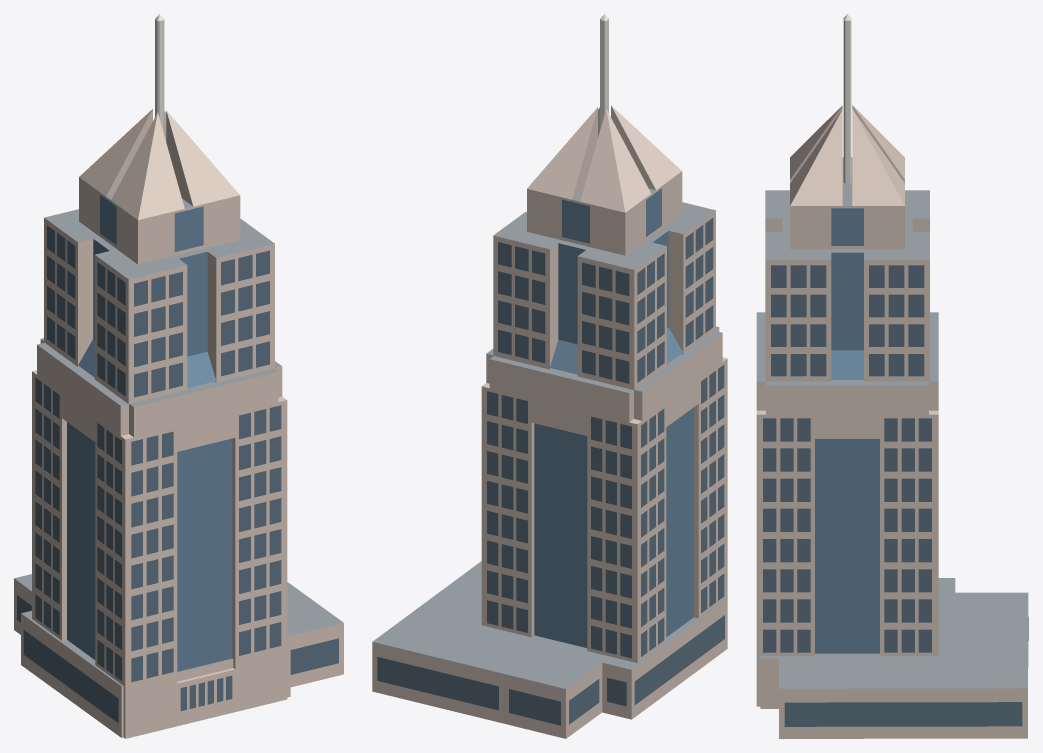
Rendered from pit-fifth-avenue-place.glb.
3 views of the same model, side by side, from view 1: azimuth 30°, elevation 25°; view 2: azimuth 150°, elevation 25°; view 3: azimuth 270°, elevation 25° (orthographic). The views are drawn at different scales.
Visible parts, largest first — view 1: Fifth Avenue Place; view 2: Fifth Avenue Place; view 3: Fifth Avenue Place.
Part boxes in pixels (box(x1,y1,x2,y2)): Fifth Avenue Place: box(14, 14, 343, 738); Fifth Avenue Place: box(372, 14, 727, 738); Fifth Avenue Place: box(756, 14, 1028, 738).
Size of the model in its own units: 68.37 by 188 by 71.02.
